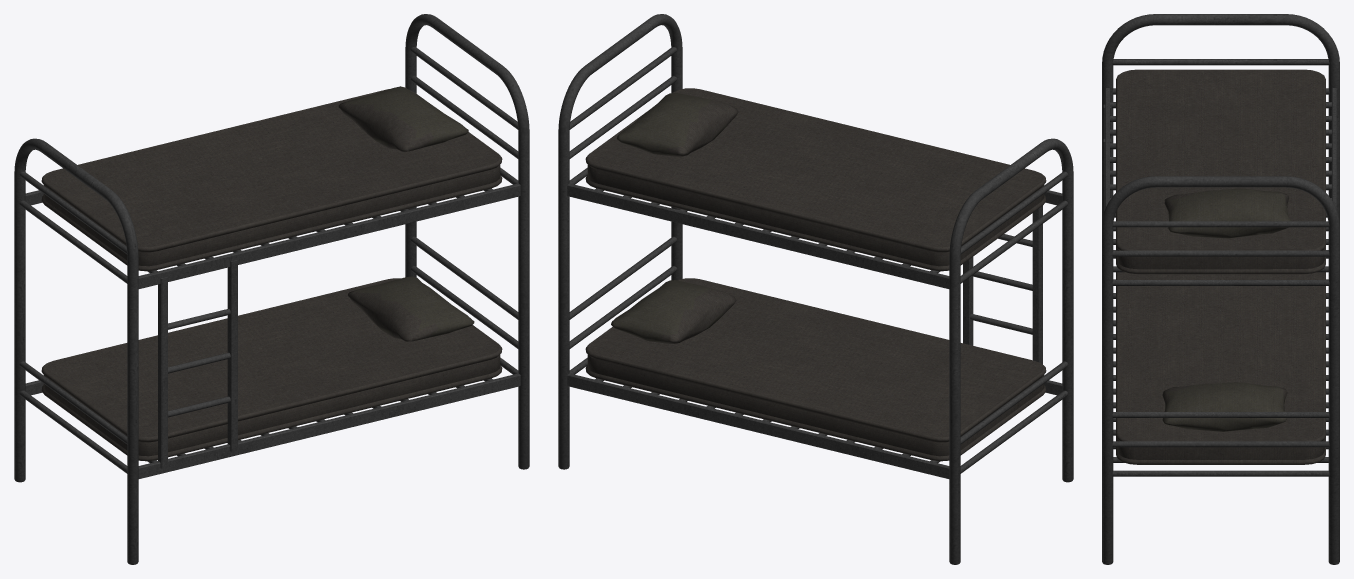
Rendered from bed_2.obj.
The picture shows the model from 3 angles, left to right: view 1: azimuth 30°, elevation 25°; view 2: azimuth 150°, elevation 25°; view 3: azimuth 270°, elevation 25°; orthographic projection.
Visible parts, largest first — view 1: bed_2; view 2: bed_2; view 3: bed_2.
Boxes of the visible parts, left/top/right/bottom form: bed_2: left=14, top=14, right=529, bottom=564; bed_2: left=558, top=14, right=1073, bottom=564; bed_2: left=1102, top=14, right=1339, bottom=564.
Bounding box in the file's own units: 2.87 × 2.63 × 1.47.
